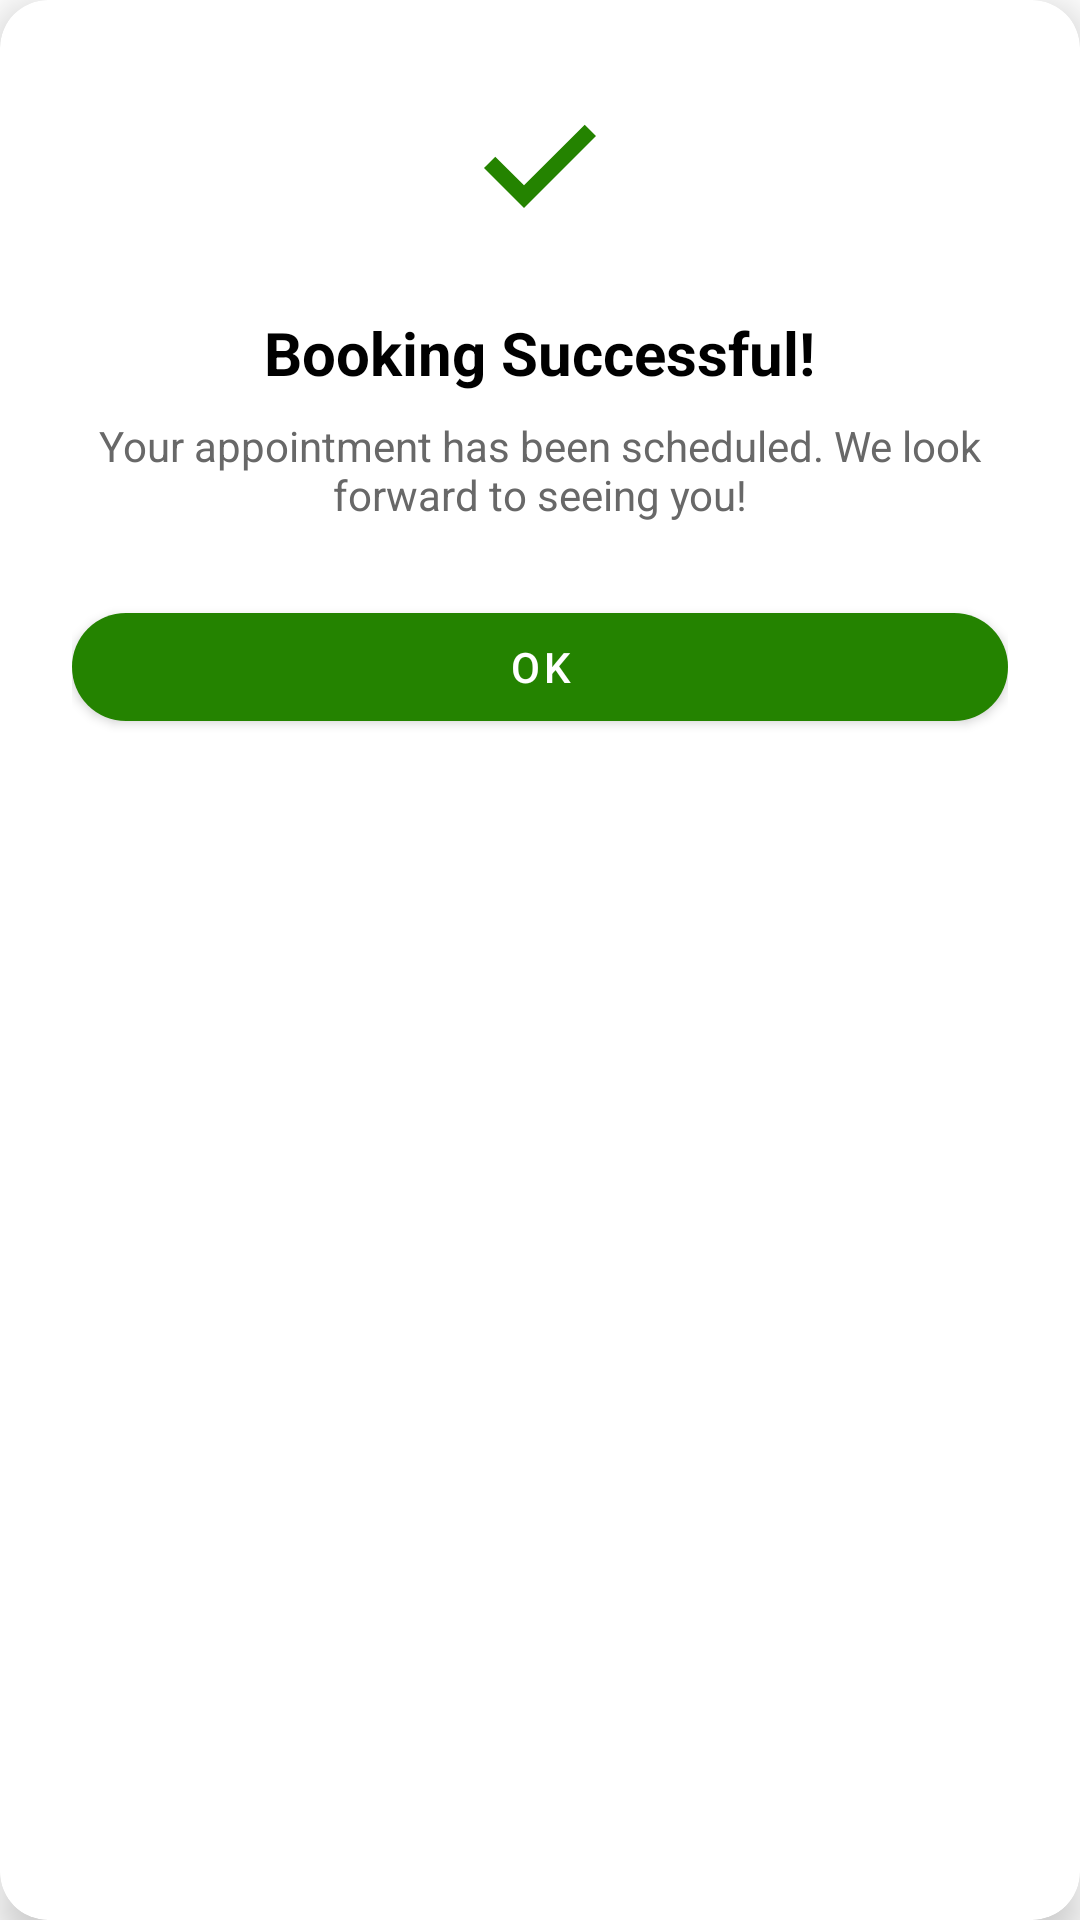

Screen size 1080 x 1920. Icon name, then its box in pixels as rect(x1, y1, x2, y2):
check circle: rect(484, 125, 596, 208)
